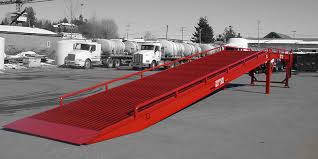Yard Ramp: (3, 47, 295, 146)
